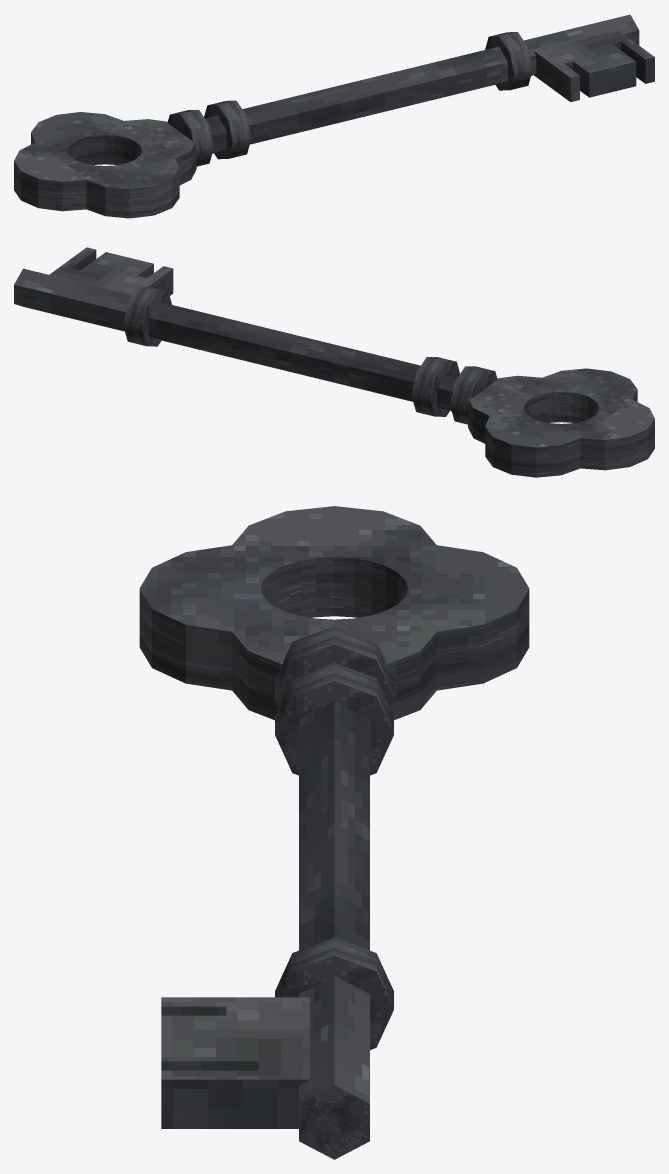
File: key_iron.glb
3 renders of one model, top to bottom at view 1: azimuth 30°, elevation 25°; view 2: azimuth 150°, elevation 25°; view 3: azimuth 270°, elevation 25°, orthographic. The views are drawn at different scales.
Visible parts, largest first — view 1: key_iron; view 2: key_iron; view 3: key_iron.
Boxes of the visible parts, <box> form: key_iron: <box>14,14,654,218</box>; key_iron: <box>14,247,654,477</box>; key_iron: <box>139,506,529,1159</box>.
Size of the model in its own units: 0.13 by 0.011 by 0.036.
1 material, 1 textured.
